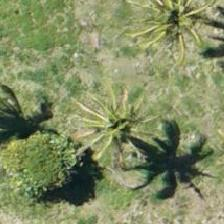coconut_tree: (84, 92, 174, 182), (126, 0, 216, 58)
